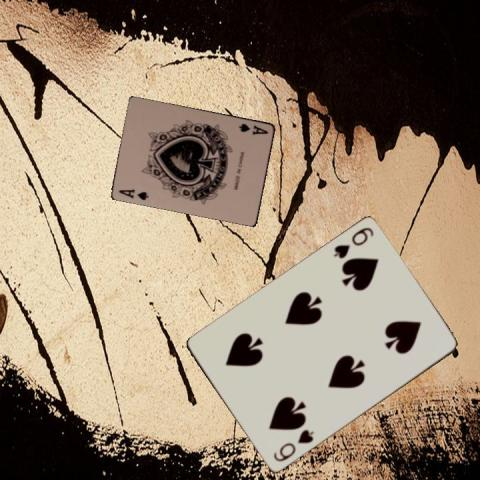6s: (270, 427, 315, 464), (331, 225, 375, 260)
As: (236, 120, 270, 136), (116, 186, 150, 202)
